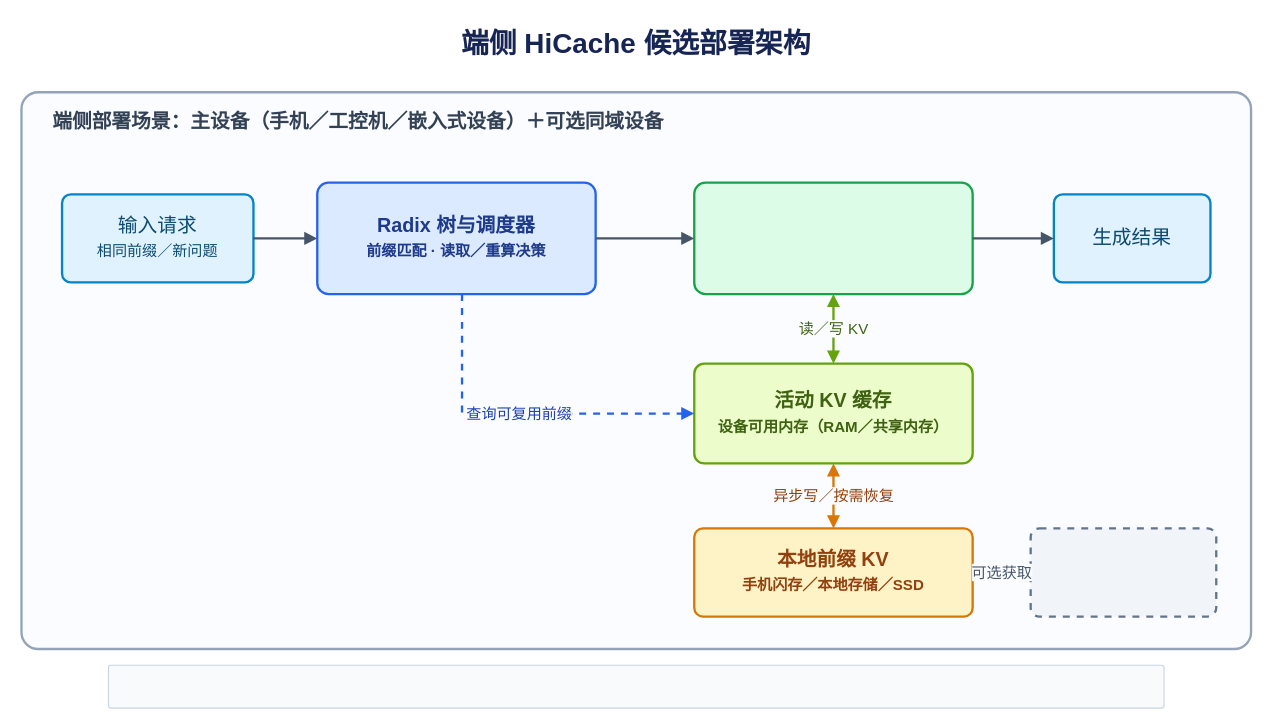
Some shapes in this 1271 by 728 pixel diagram are drawn without their labels. The centre of each missing label's shape, as x and y in pixels:
"可选：同域设备 跨设备缓存来源" belongs at point 1123,572.
"命中：复用或按需恢复前缀 KV ｜ 未命中或恢复较慢：计算前缀 KV" belongs at point 635,686.
"模型推理 CPU；可选 NPU／集成 GPU" belongs at point 833,238.
